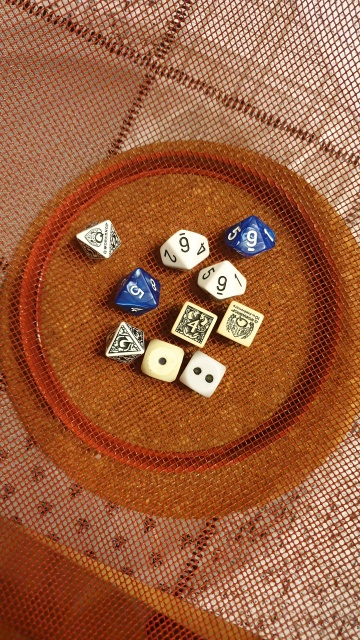d10-5: (111, 268, 162, 318)
d10-6: (151, 221, 210, 271)
d10-9: (220, 215, 282, 262), (193, 261, 252, 302)
d6-1: (136, 338, 183, 382)
d6-2: (181, 345, 225, 401)
d6p-4: (165, 300, 217, 350)
d6p-6: (215, 298, 265, 350)
d8p-2: (99, 320, 144, 365)
d8p-8: (73, 217, 125, 262)
